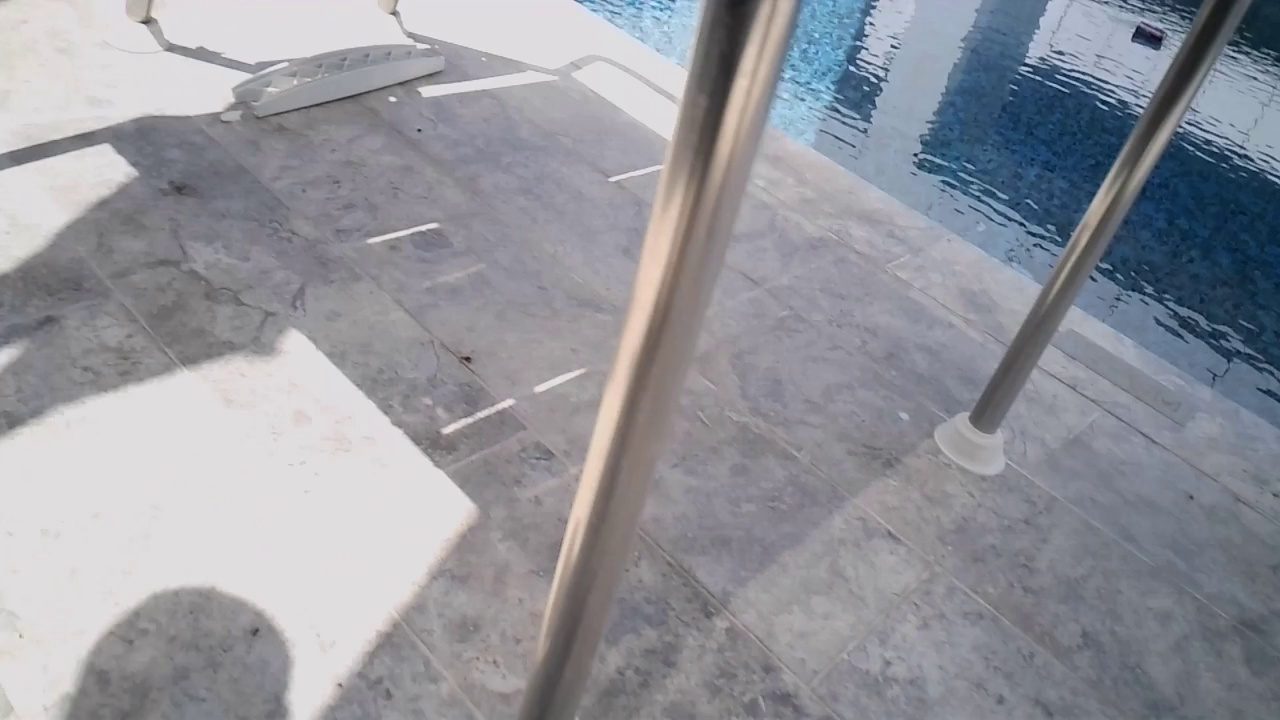debris: (1129, 16, 1172, 54)
